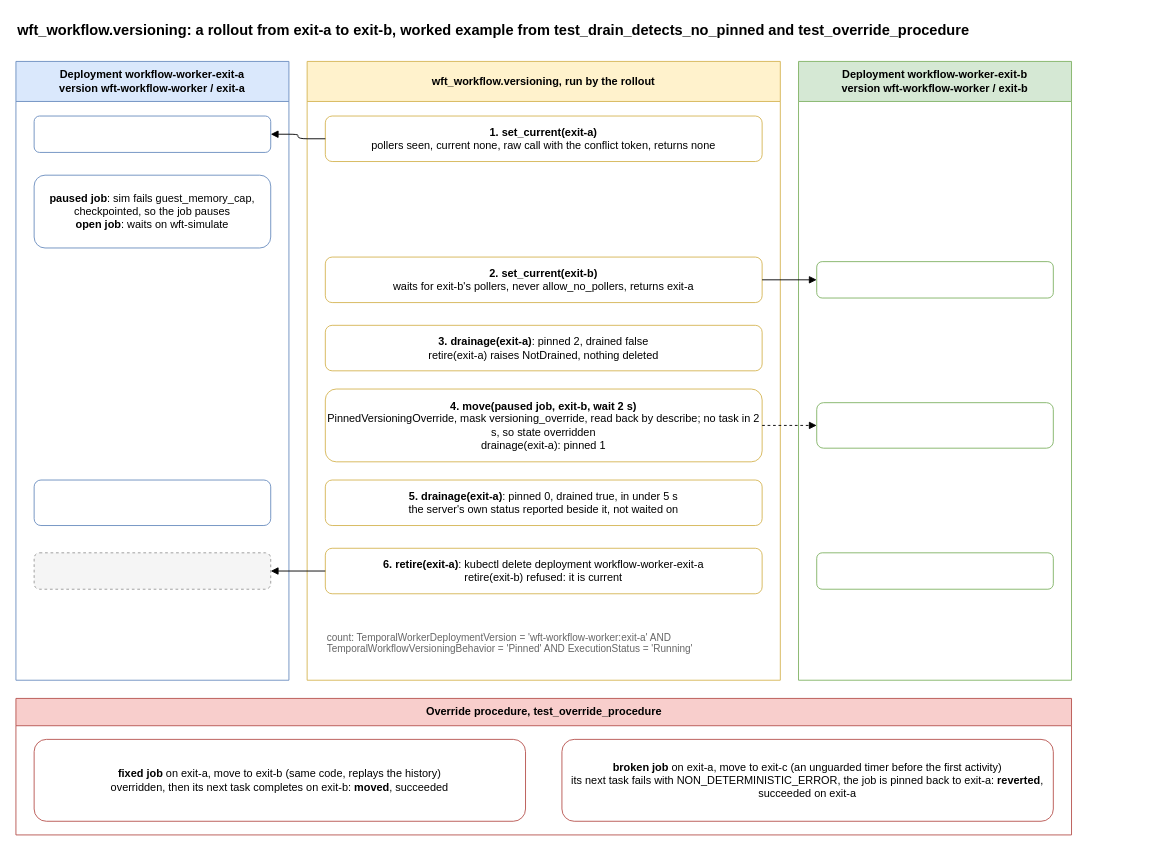
Image size: 1160x851. Some labels were removed from this diagram. Each missing label, with the centre of its shape:
"current, pinned 1" belongs at (x=934, y=570).
"deleted" belongs at (x=152, y=570).
"exit-a polls wft-workflow" belongs at (x=152, y=133).
"exit-b polls wft-workflow" belongs at (x=934, y=279).
"open job finishes: succeeded, every workflow task on exit-a" belongs at (x=152, y=502).
"paused job pinned here, runs on exit-b at its next task" belongs at (x=934, y=425).
